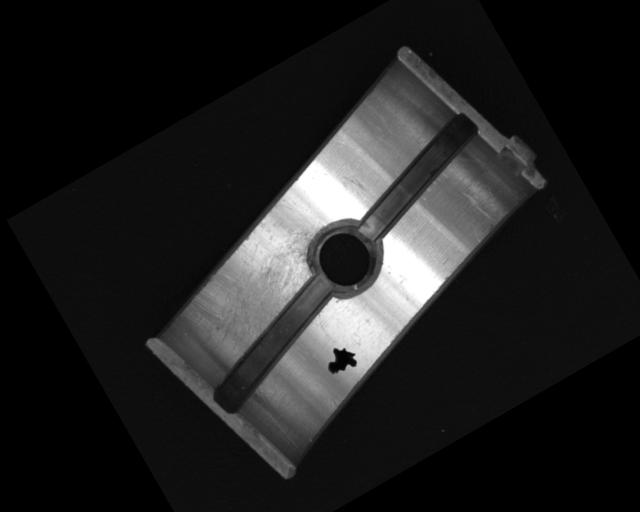blot: (318, 338, 362, 380)
gap: (190, 273, 359, 415), (333, 109, 499, 244)
hole: (296, 209, 395, 310)
nick: (462, 185, 498, 230)
scratch: (155, 182, 357, 369)
